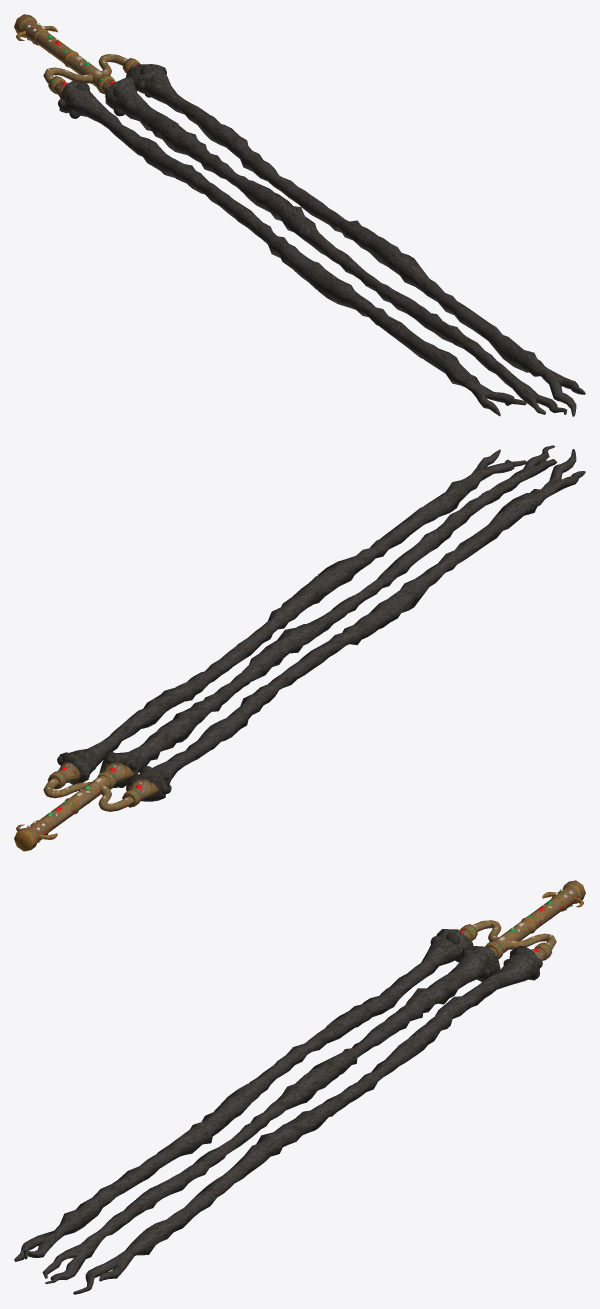
3 views of the same model, one above another, from view 1: azimuth 30°, elevation 25°; view 2: azimuth 150°, elevation 25°; view 3: azimuth 330°, elevation 25° (orthographic).
Parts seen in each view (by area): view 1: WP_A_1204.001, WP_A_1204; view 2: WP_A_1204.001, WP_A_1204; view 3: WP_A_1204.001, WP_A_1204.
Part boxes in pixels (x1,y1,x2,y2): WP_A_1204.001: (83, 85, 585, 416); WP_A_1204: (14, 14, 171, 118); WP_A_1204.001: (88, 445, 585, 778); WP_A_1204: (14, 748, 172, 851); WP_A_1204.001: (14, 950, 516, 1294); WP_A_1204: (427, 880, 585, 984).
Bounding box in the file's own units: 28.17 × 8.53 × 239.
Materials: 2 (2 with a texture image).
